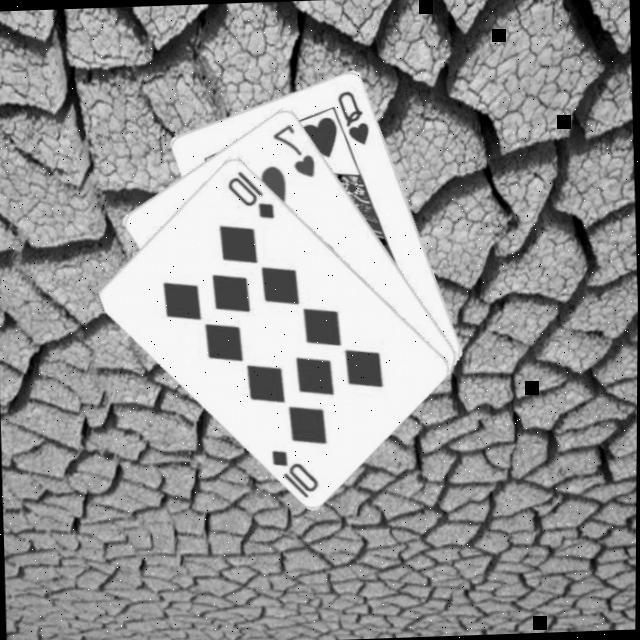10D: (268, 446, 322, 504), (222, 167, 276, 224)
7H: (268, 120, 318, 183)
QH: (334, 88, 372, 150)
